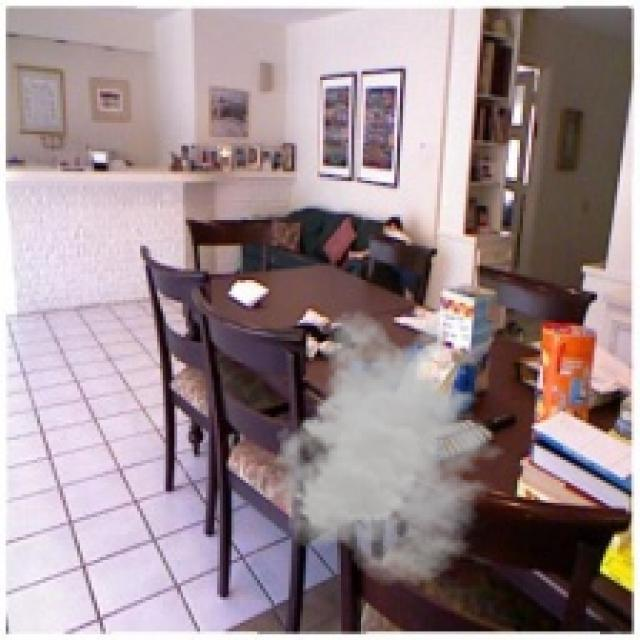Smoke: (266, 308, 518, 586)
